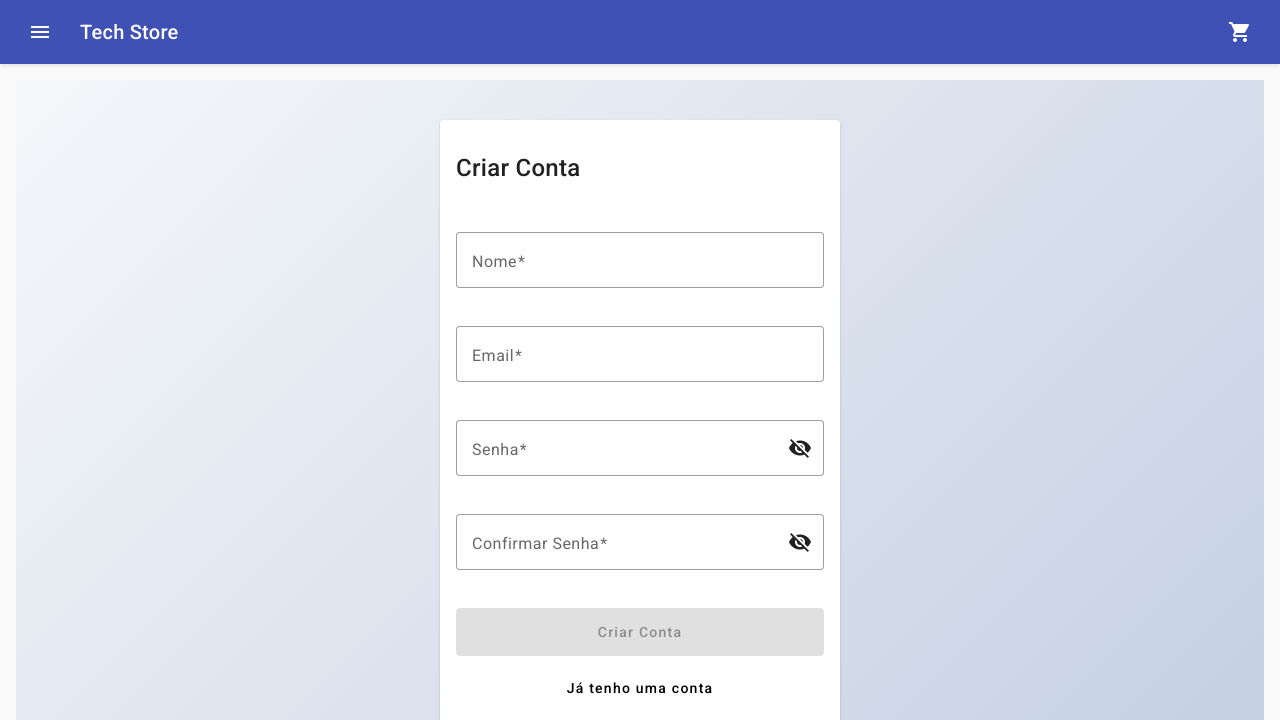
Test case: Registration Flow › should show error for existing email
Type "Existing User" into the field with test id "name-input" at (640, 260), box [472, 248, 808, 272]
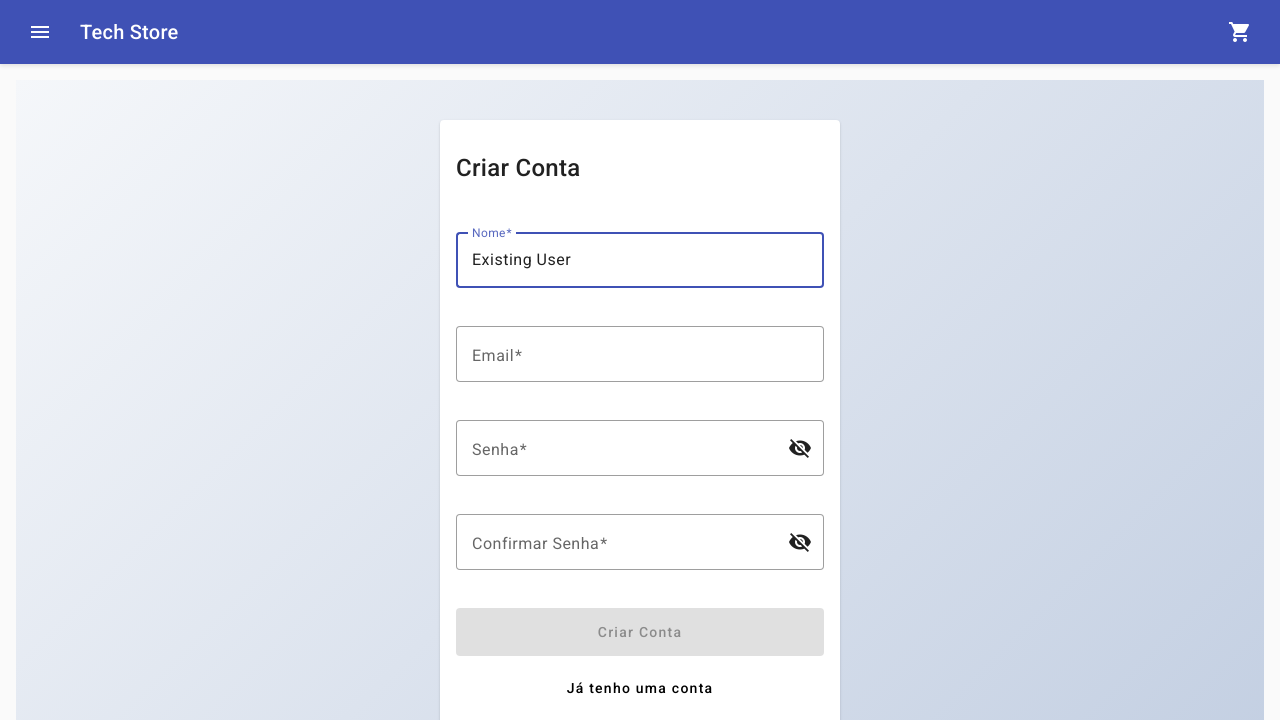
Type "admin@edugital.com.br" into the field with test id "email-input" at (640, 354), box [472, 342, 808, 366]
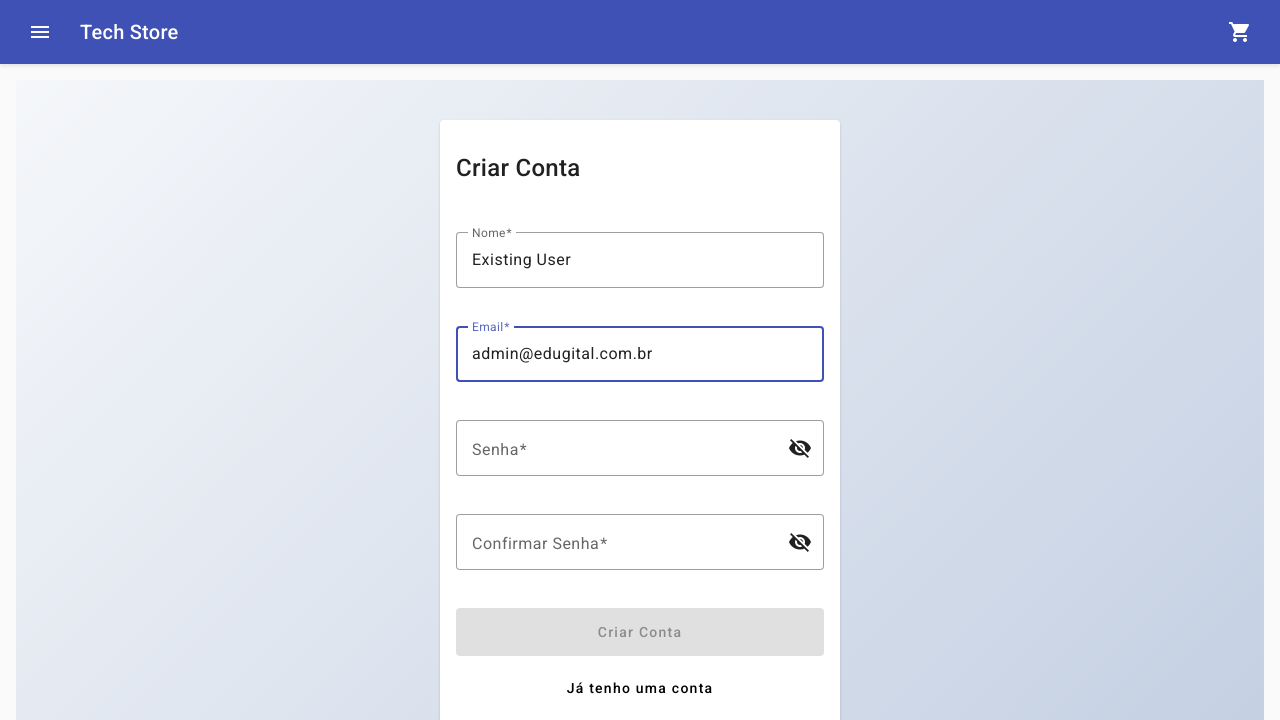
Type "test123" into the password field with test id "password-input" at (622, 448), box [472, 436, 772, 460]
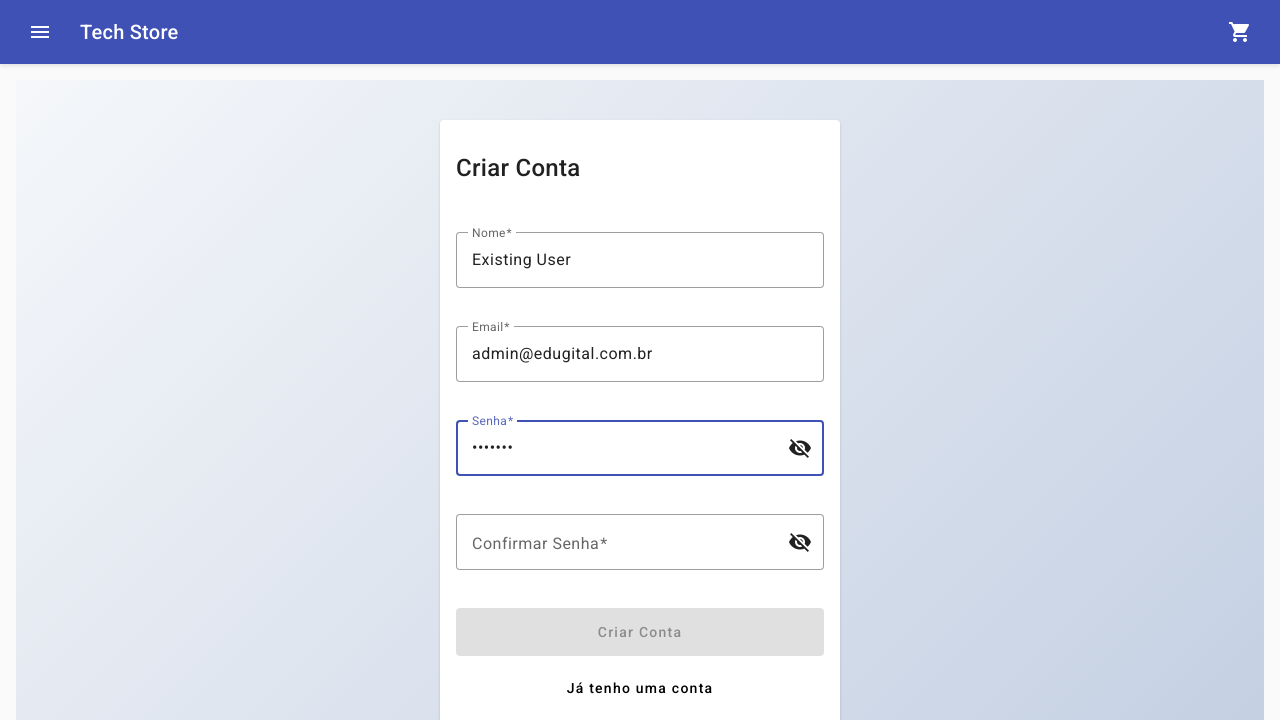
Type "test123" into the password field with test id "confirm-password-input" at (622, 542), box [472, 530, 772, 554]
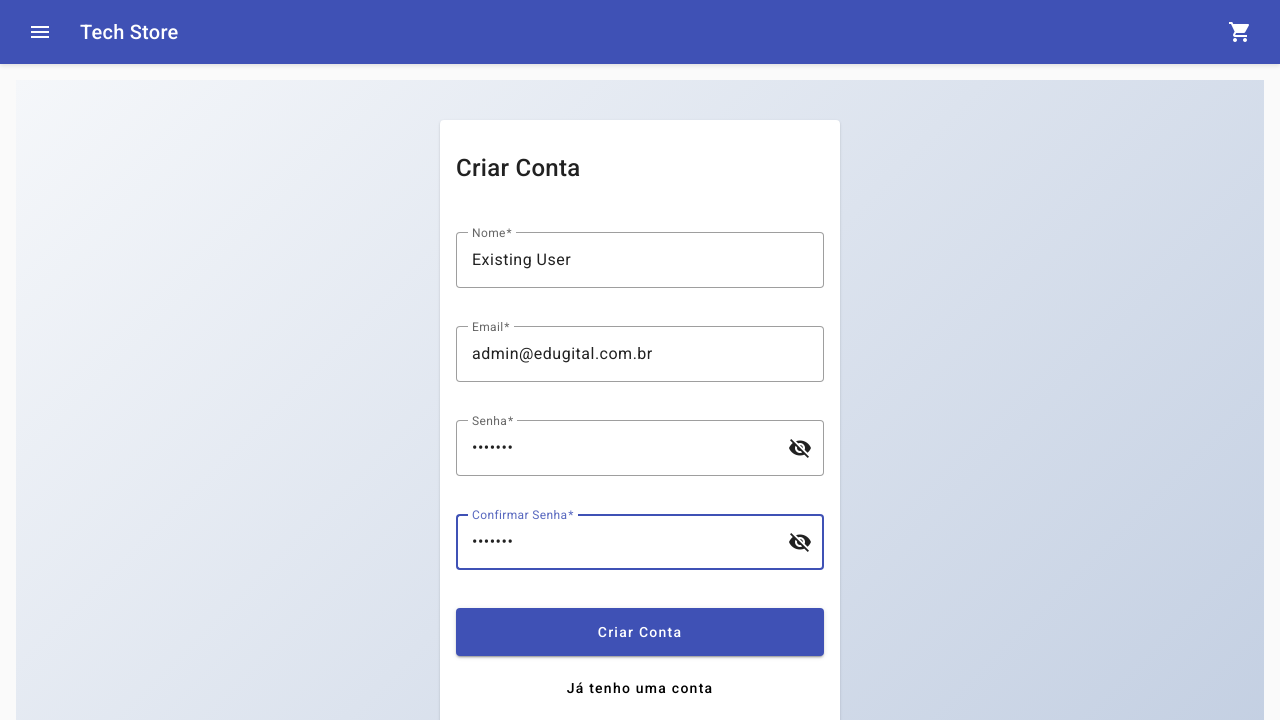
Click the button with test id "register-button" at (640, 632), box [456, 608, 824, 656]
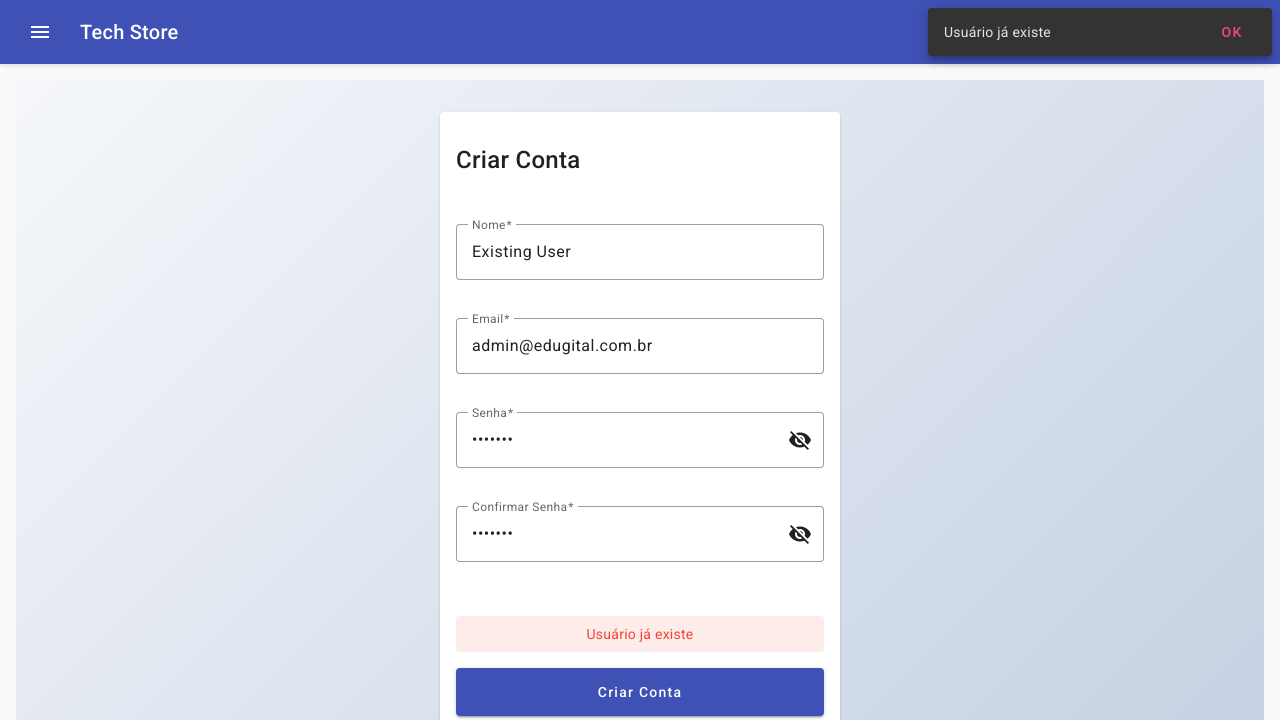
Expected: the message "Usuário já existe" is shown, [456, 616, 824, 652]
Expected: the message with test id "error-message" reads "Usuário já existe", [587, 626, 694, 642]
